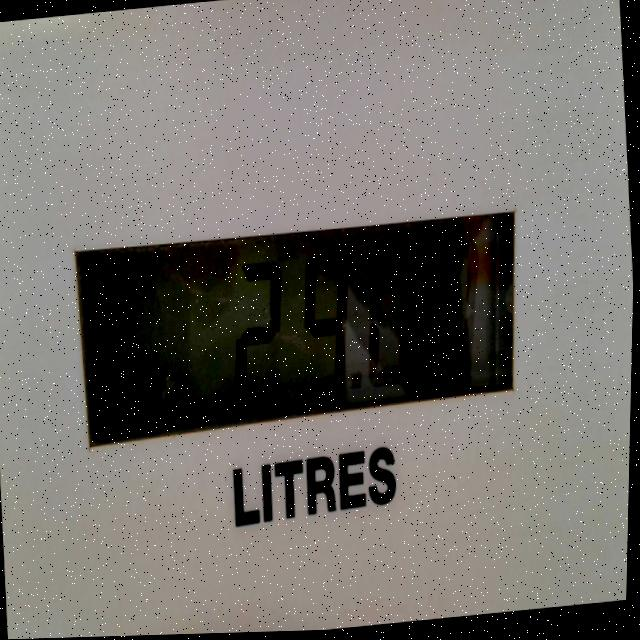.: (343, 361, 370, 404)
0: (418, 239, 496, 392), (353, 235, 422, 401)
2: (220, 255, 294, 424)
9: (292, 247, 365, 408)
